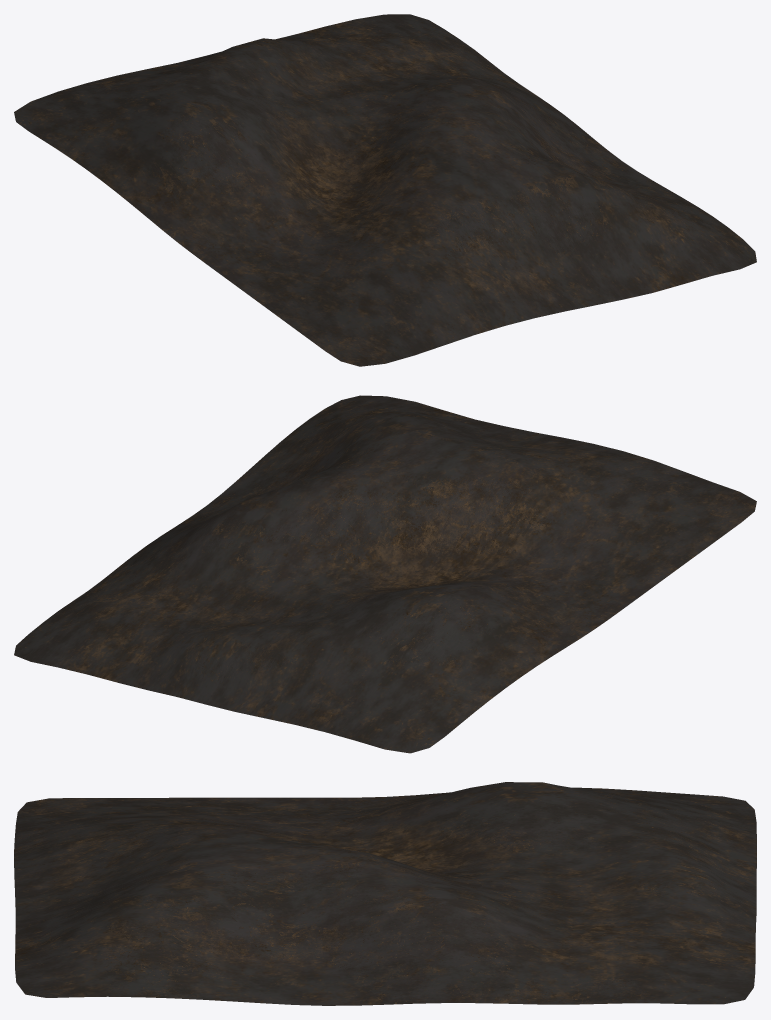
Rendered from contener_fill.gltf.
The picture shows the model from 3 angles, top to bottom: view 1: azimuth 30°, elevation 25°; view 2: azimuth 150°, elevation 25°; view 3: azimuth 270°, elevation 25°; orthographic projection. The views are drawn at different scales.
Visible parts, largest first — view 1: contener_fill; view 2: contener_fill; view 3: contener_fill.
Part boxes in pixels (box(x1,y1,x2,y2)): contener_fill: box(14, 14, 756, 366); contener_fill: box(14, 395, 756, 753); contener_fill: box(14, 782, 756, 1005).
Bounding box in the file's own units: 2.53 × 0.3999 × 3.73.
Materials: 1 (1 with a texture image).
